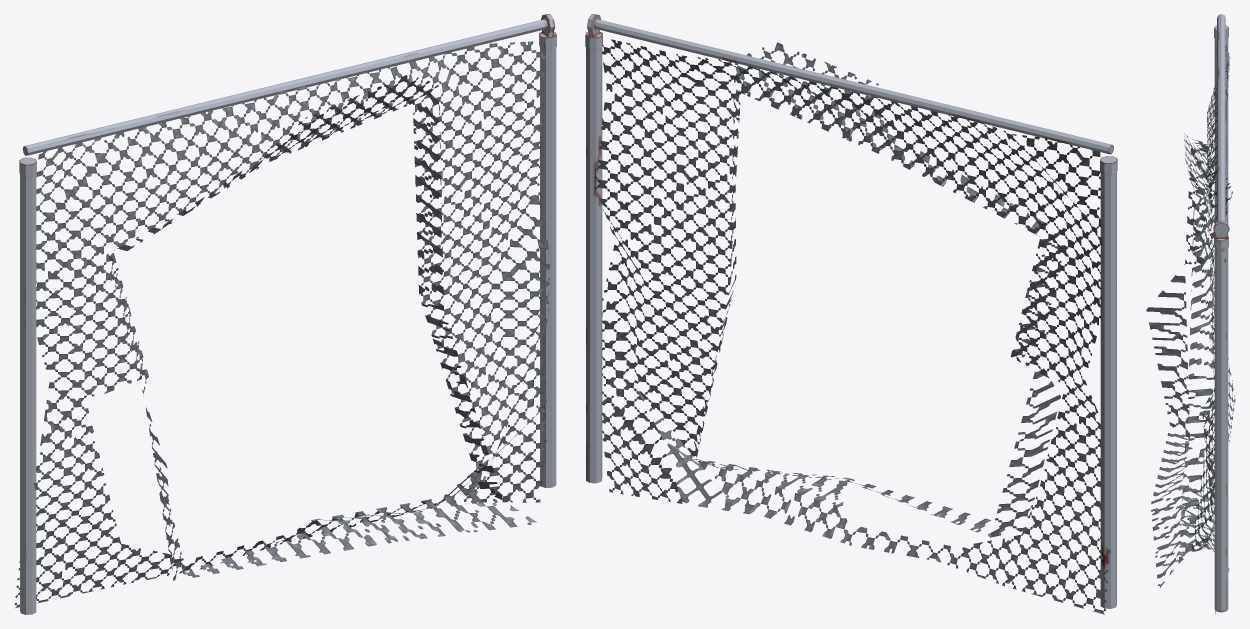
Rendered from FenceBroken.fbx.
The picture shows the model from 3 angles, left to right: view 1: azimuth 30°, elevation 25°; view 2: azimuth 150°, elevation 25°; view 3: azimuth 270°, elevation 25°; orthographic projection. The views are drawn at different scales.
Parts seen in each view (by area): view 1: FenceBroken; view 2: FenceBroken; view 3: FenceBroken.
Boxes of the visible parts, left/top/right/bottom form: FenceBroken: left=14, top=14, right=556, bottom=614; FenceBroken: left=585, top=14, right=1117, bottom=614; FenceBroken: left=1146, top=14, right=1235, bottom=614.
Bounding box in the file's own units: 773 × 665 × 135.
